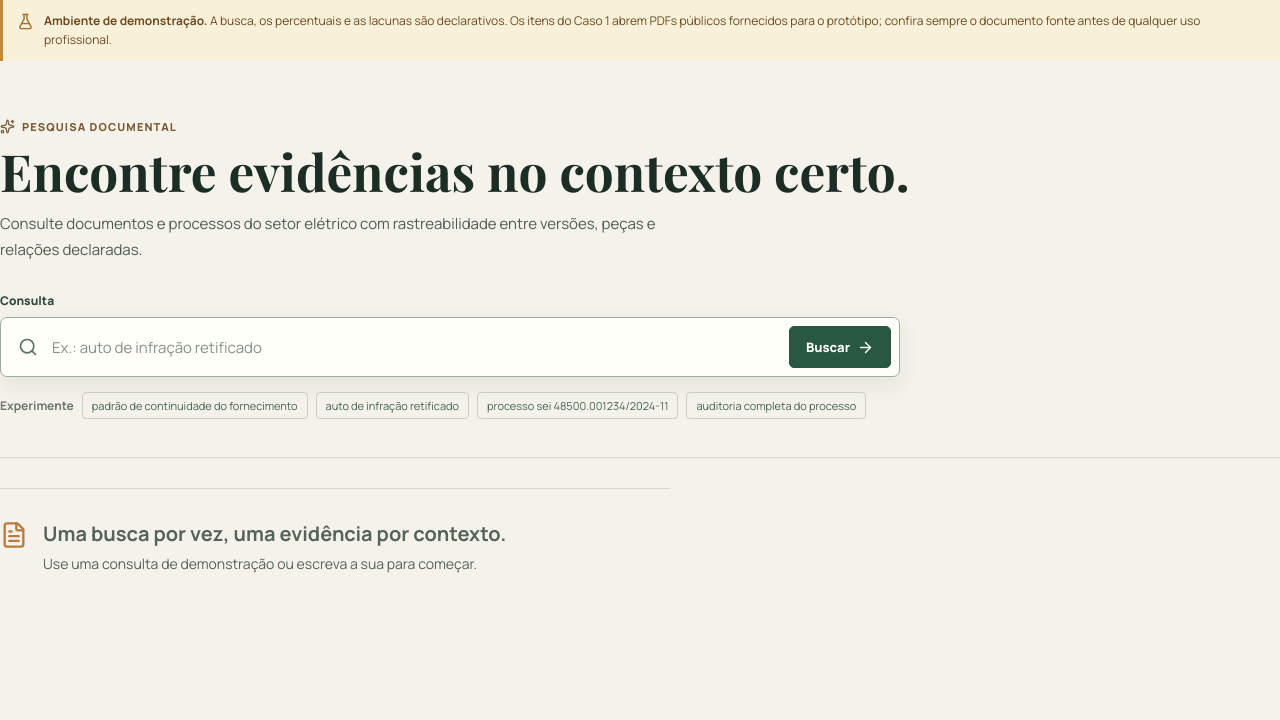
SearchPage › cada card vota no próprio trecho: o 👎 do segundo card vai para o chunk dele
Click the button "auto de infração retificado" at (392,406), box [316,392,469,420]
(page scrolled)
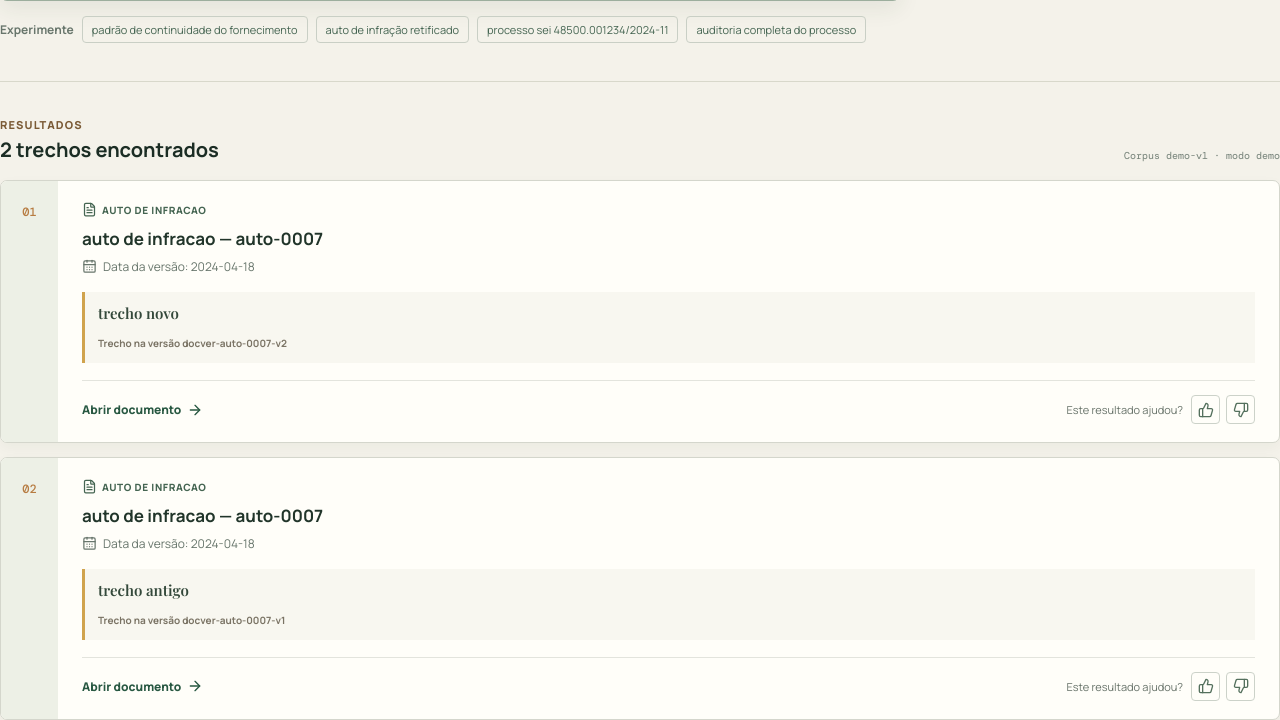
Result: the number of buttons named "votar negativamente" is 2
Click the 2nd button named "votar negativamente" at (1240,686), box [1226,672,1255,701]
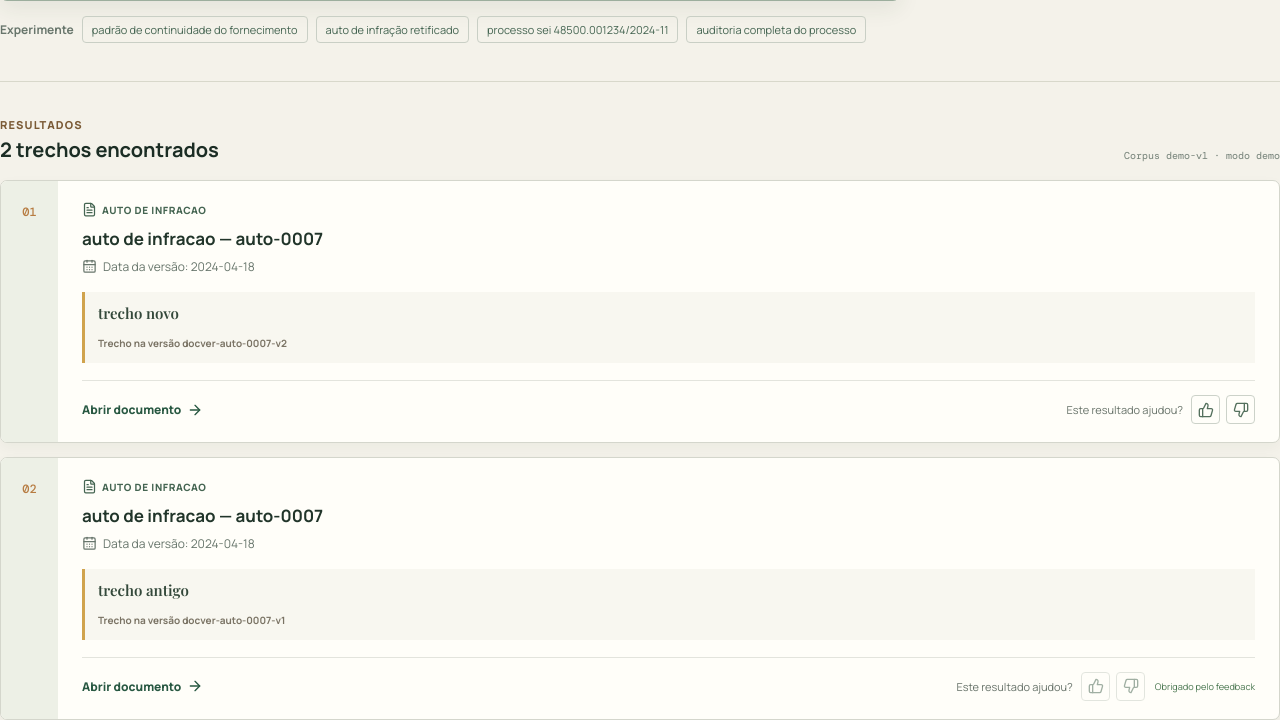
Result: the text "Obrigado pelo feedback" is shown at [1155,680,1255,693]
